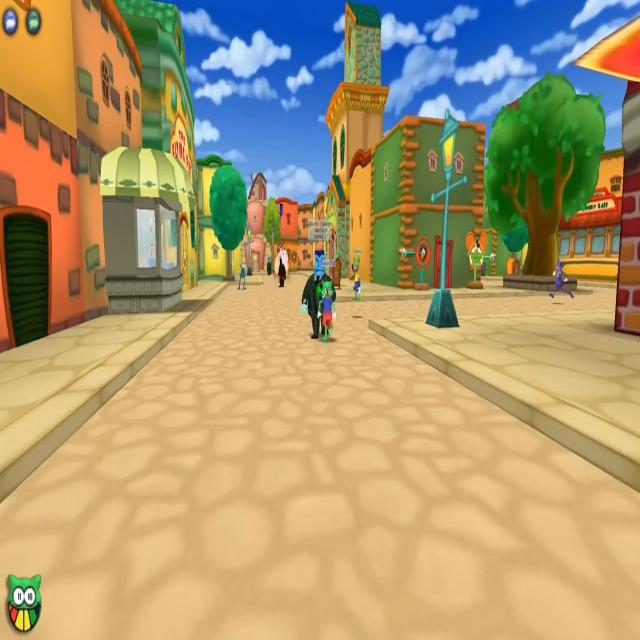coldcaller: (268, 248, 293, 287)
shortchange: (300, 244, 336, 343)
